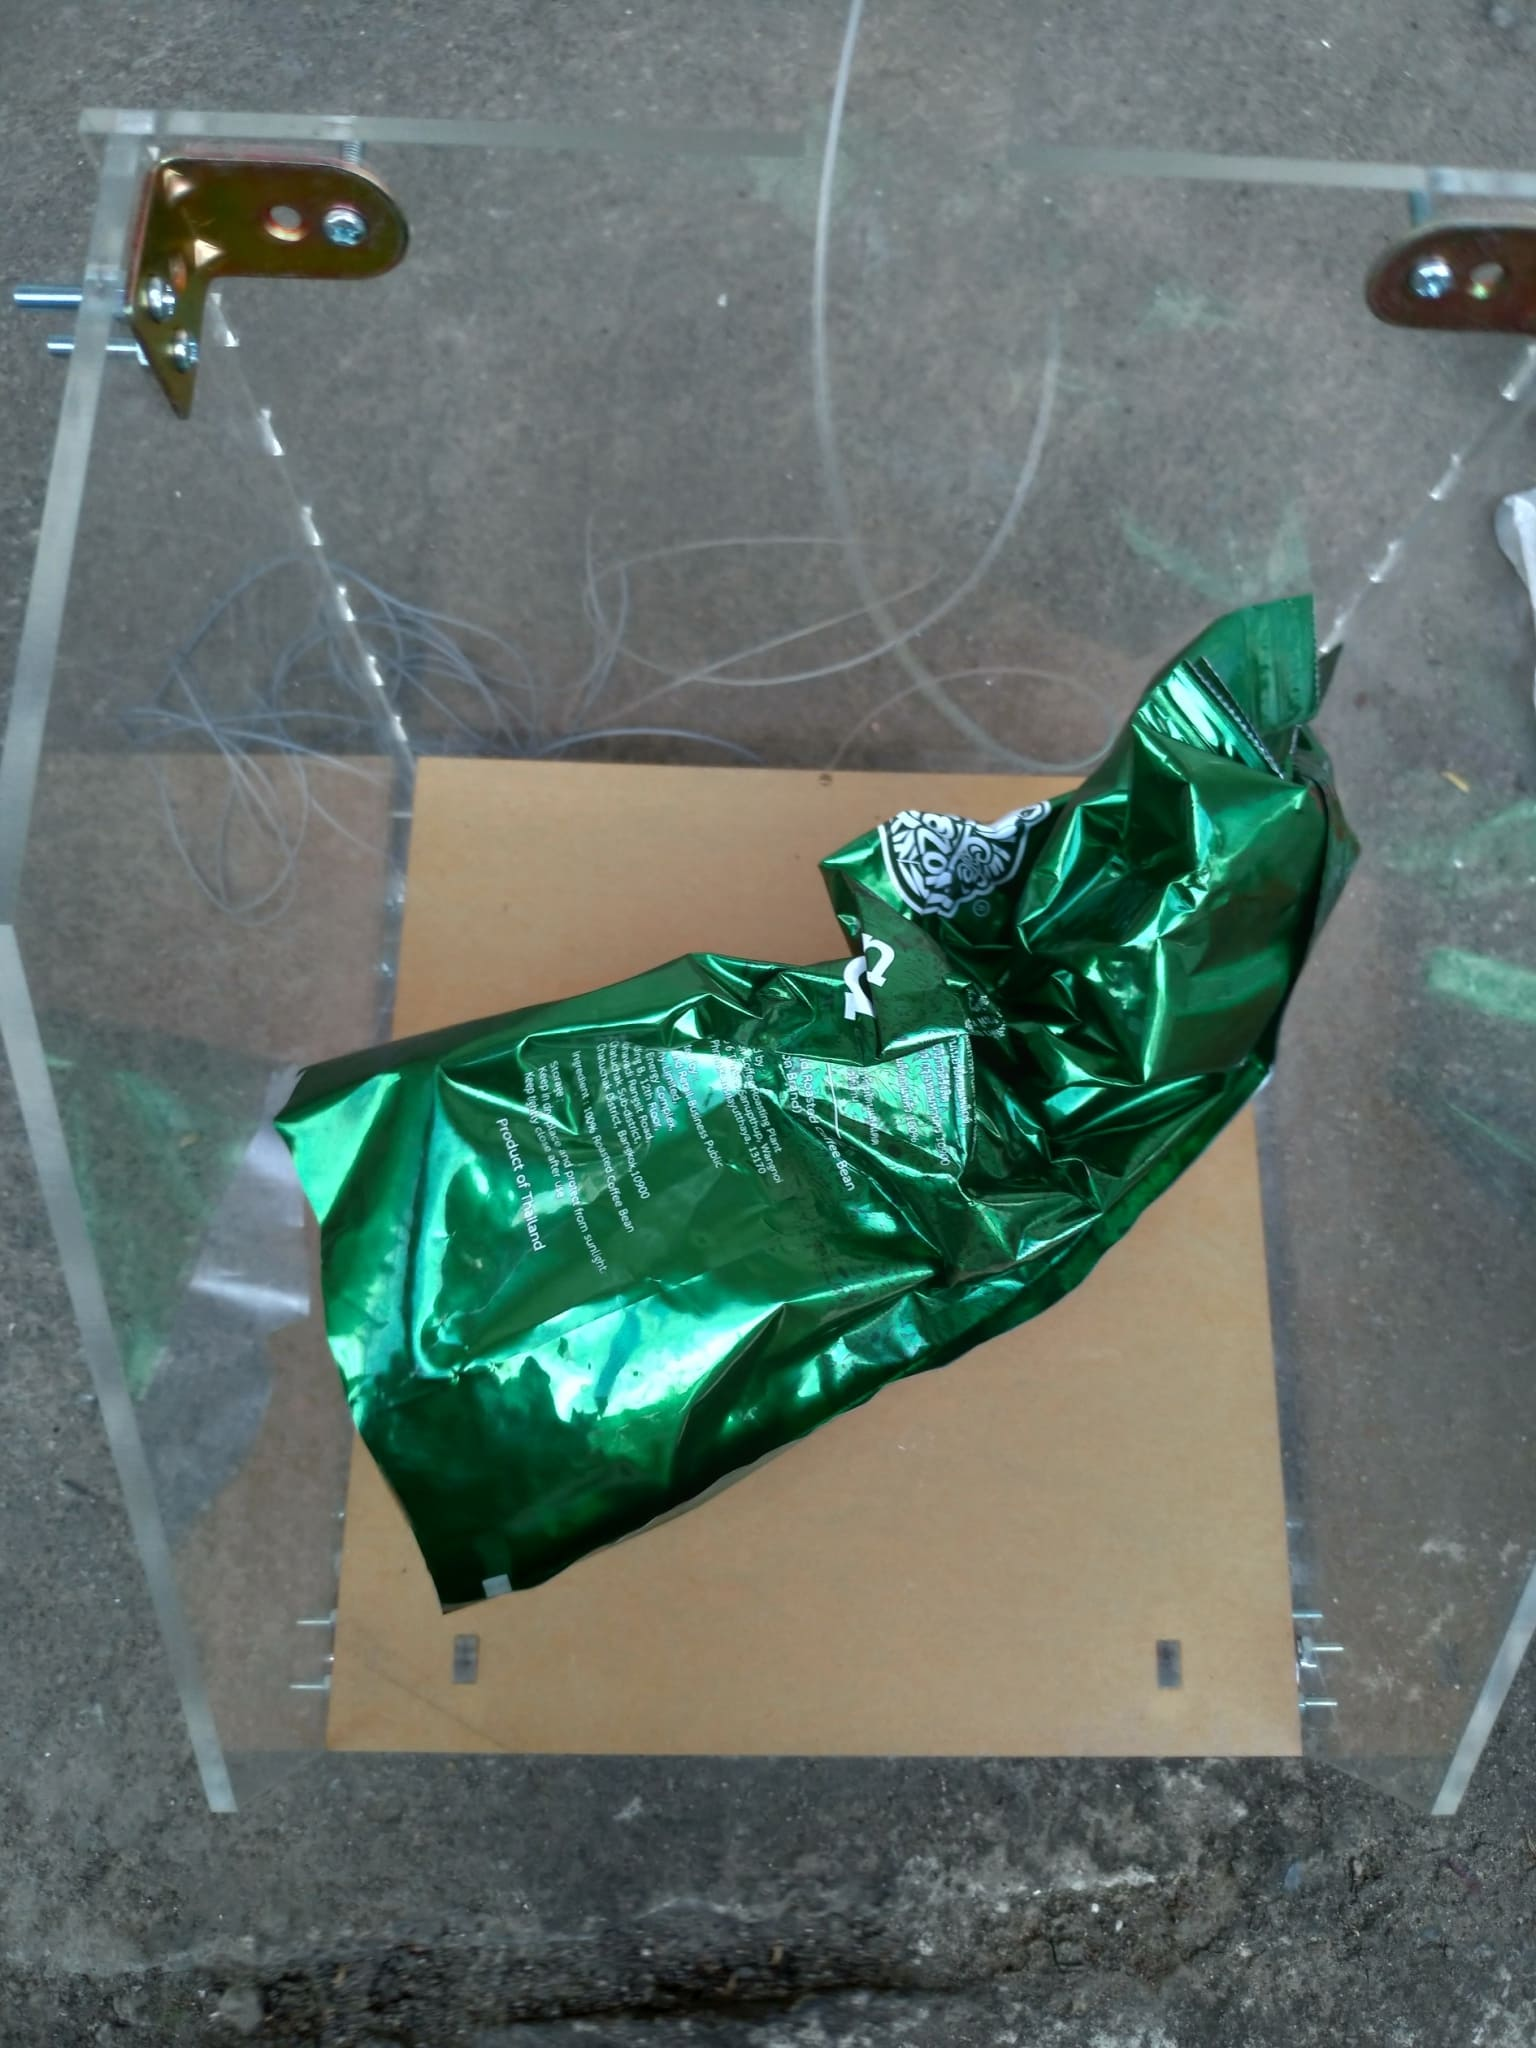Others: (266, 598, 1350, 1611)
